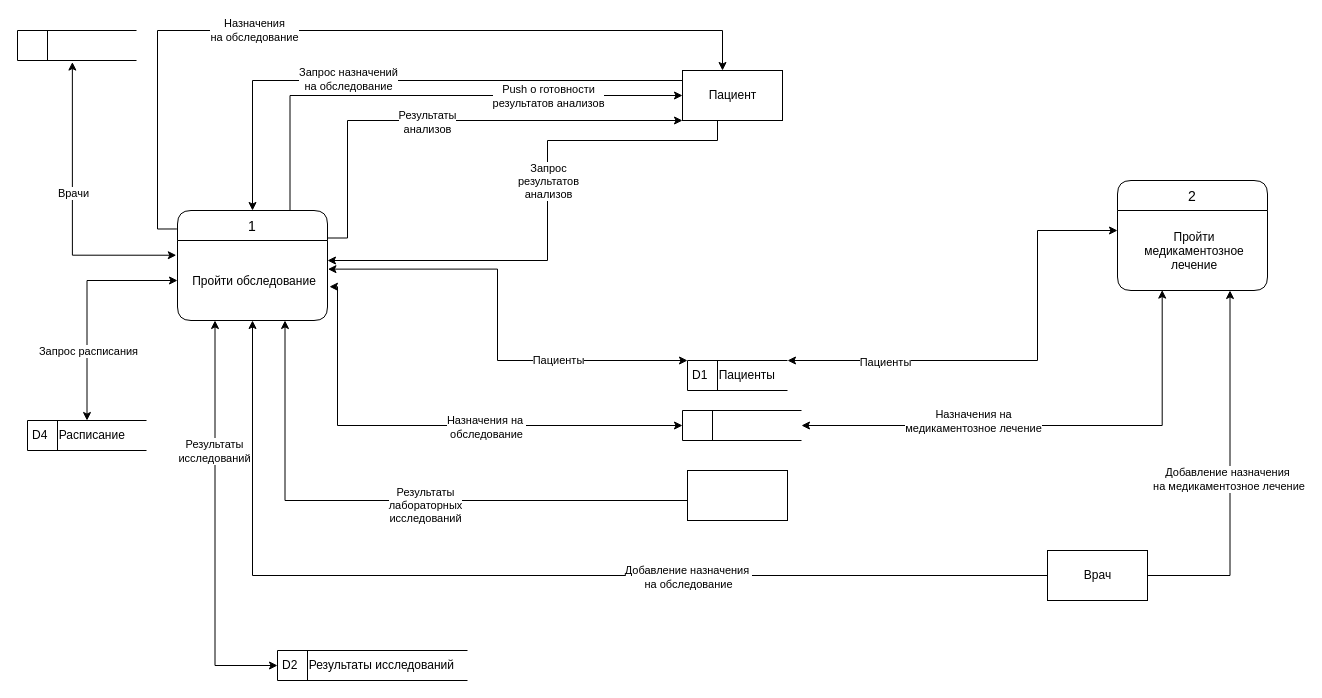
This 1322x698 diagram has some shape labels left out. The shapes that lost their labels are listed below. From the top down, each one's centre as x and y in pixels, then its label:
(x=76, y=45): D5 Врачи
(x=742, y=425): D3 Назначения
(x=737, y=495): Лаборатория
